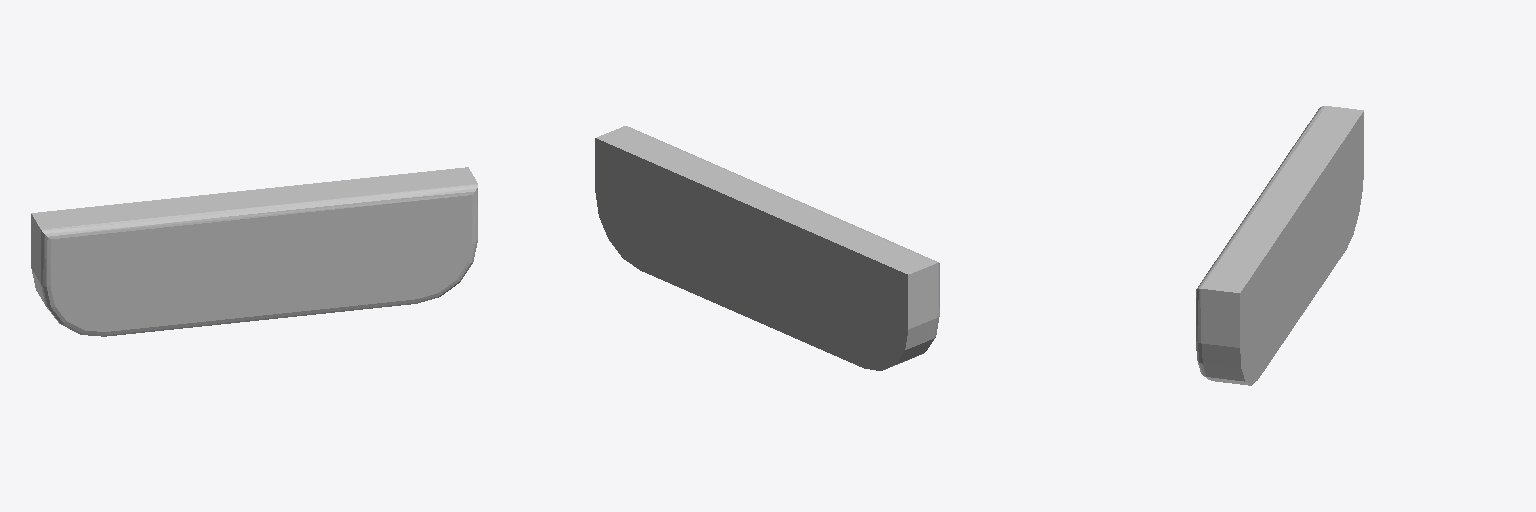
Rendered from Shoulder-Left-Button.obj.
3 views of the same model, side by side, from view 1: azimuth 30°, elevation 25°; view 2: azimuth 150°, elevation 25°; view 3: azimuth 270°, elevation 25° (orthographic).
Parts seen in each view (by area): view 1: Shoulder-Left-Button; view 2: Shoulder-Left-Button; view 3: Shoulder-Left-Button.
Boxes of the visible parts, x1,y1,x2,y2 form: Shoulder-Left-Button: [31, 167, 477, 336]; Shoulder-Left-Button: [595, 126, 939, 370]; Shoulder-Left-Button: [1196, 106, 1363, 385].
Size of the model in its own units: 27.62 by 7.75 by 10.48.